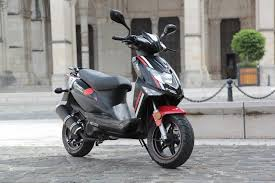motorcycle: (50, 7, 196, 169)
